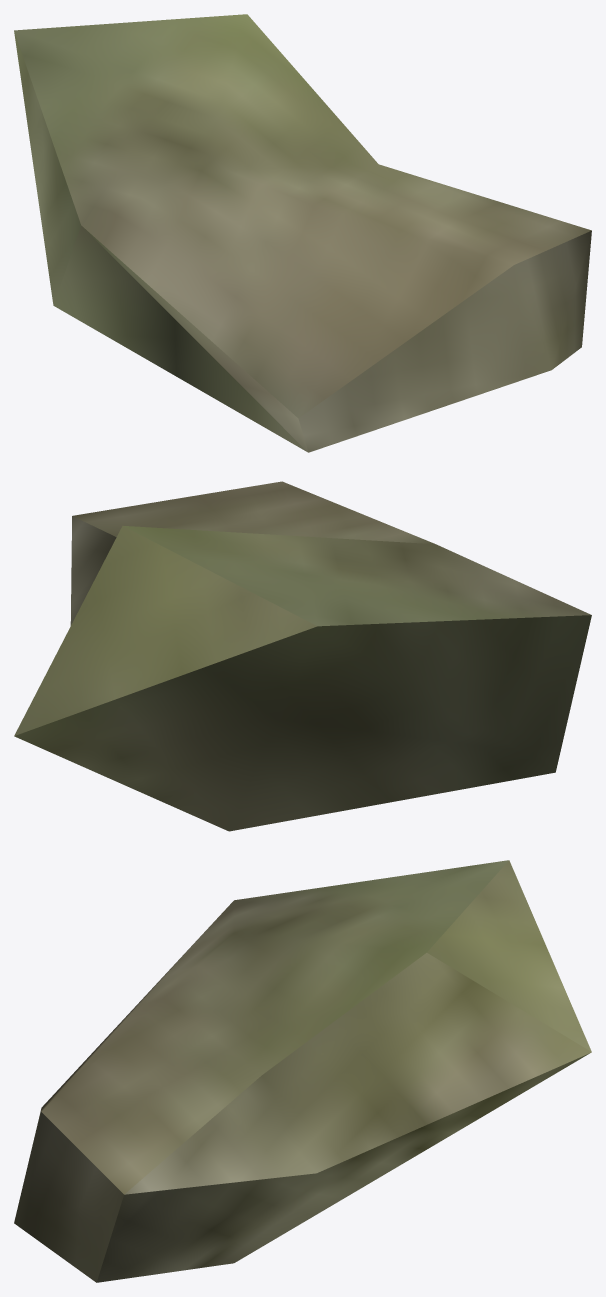
The picture shows the model from 3 angles, top to bottom: view 1: azimuth 30°, elevation 25°; view 2: azimuth 150°, elevation 25°; view 3: azimuth 270°, elevation 25°; orthographic projection. The views are drawn at different scales.
Parts seen in each view (by area): view 1: 30436272704361737616_0; view 2: 30436272704361737616_0; view 3: 30436272704361737616_0.
Part boxes in pixels (x1,y1,x2,y2): 30436272704361737616_0: [14, 14, 591, 452]; 30436272704361737616_0: [14, 481, 591, 831]; 30436272704361737616_0: [14, 860, 591, 1282].
Bounding box in the file's own units: 2.91 × 1.85 × 3.24.
1 material, 1 textured.
